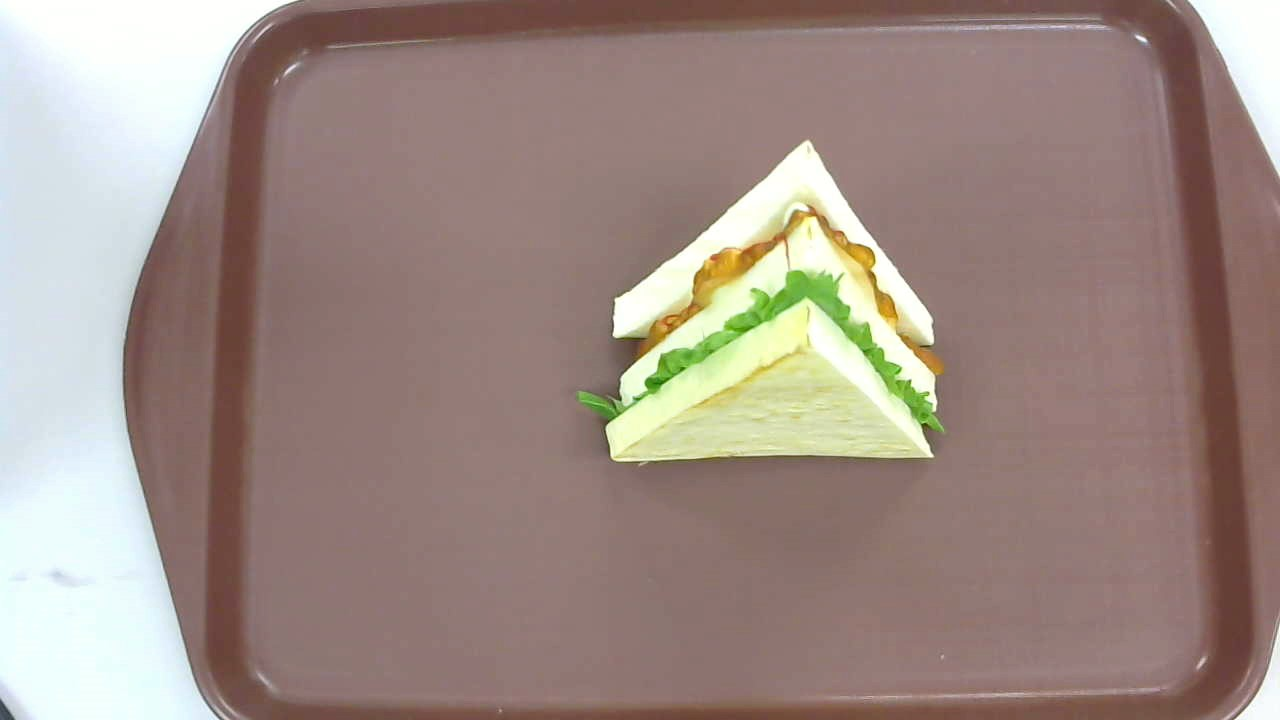sandwich: (575, 141, 945, 464)
